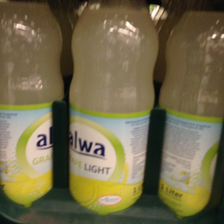soda: (69, 2, 160, 214), (1, 1, 64, 206), (161, 10, 223, 218)
